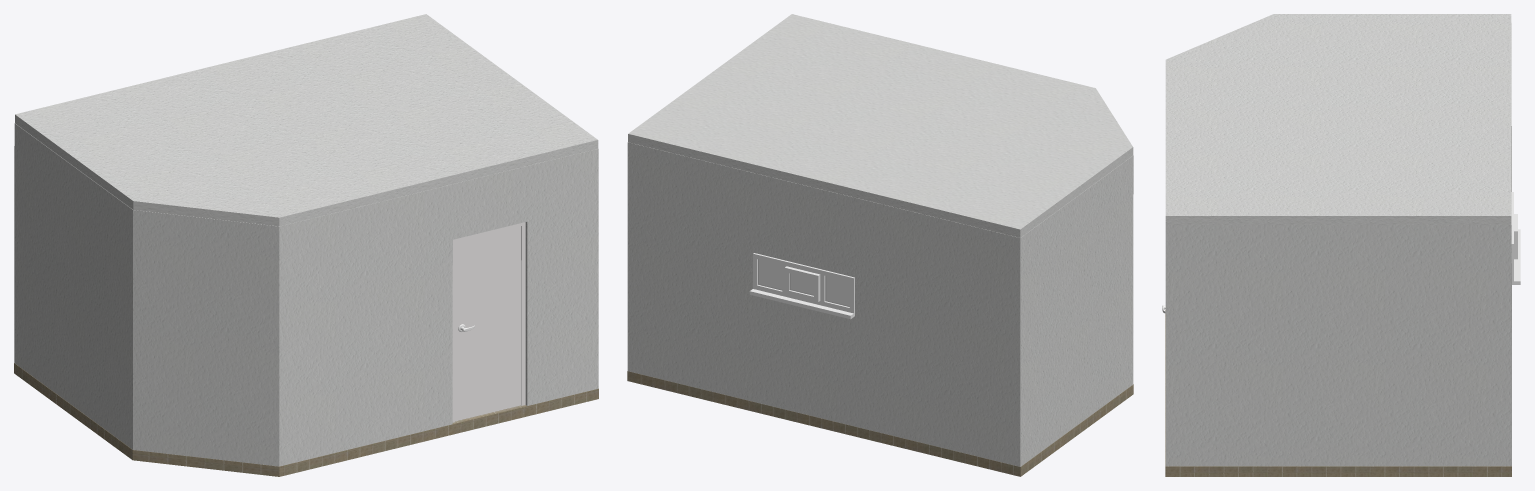
Rendered from FloorPlan412_physics.fbx.
3 renders of one model, left to right at view 1: azimuth 30°, elevation 25°; view 2: azimuth 150°, elevation 25°; view 3: azimuth 270°, elevation 25°, orthographic. The views are drawn at different scales.
Visible parts, largest first — view 1: FP412:Walls, FP412:Ceiling, FP412:Door.006, FP412:Floor, FP412:polySurface349; view 2: FP412:Walls, FP412:Ceiling, FP412:Floor, FP412:Window.012, FP412:Window.013; view 3: FP412:Walls, FP412:Ceiling, FP412:Floor, FP412:Window.012.
Part boxes in pixels (bbox=[...]): FP412:Walls: bbox=[14, 123, 598, 466]; FP412:Ceiling: bbox=[15, 14, 598, 226]; FP412:Door.006: bbox=[455, 226, 520, 421]; FP412:Floor: bbox=[14, 363, 598, 476]; FP412:polySurface349: bbox=[452, 222, 525, 422]; FP412:Walls: bbox=[627, 142, 1133, 466]; FP412:Ceiling: bbox=[628, 14, 1133, 237]; FP412:Floor: bbox=[627, 371, 1133, 476]; FP412:Window.012: bbox=[749, 253, 854, 319]; FP412:Window.013: bbox=[759, 259, 849, 305]; FP412:Walls: bbox=[1165, 23, 1511, 466]; FP412:Ceiling: bbox=[1165, 14, 1511, 224]; FP412:Floor: bbox=[1165, 310, 1511, 476]; FP412:Window.012: bbox=[1511, 192, 1520, 284].
Bounding box in the file's own units: 468 × 281 × 350.
